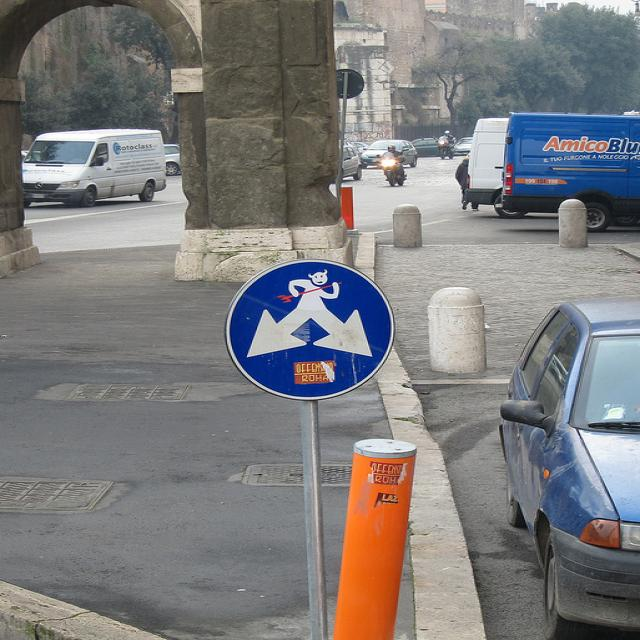motor: (377, 151, 405, 185), (438, 139, 455, 159)
